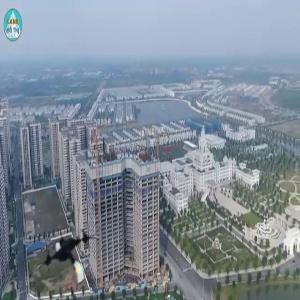drone: (35, 222, 104, 291)
